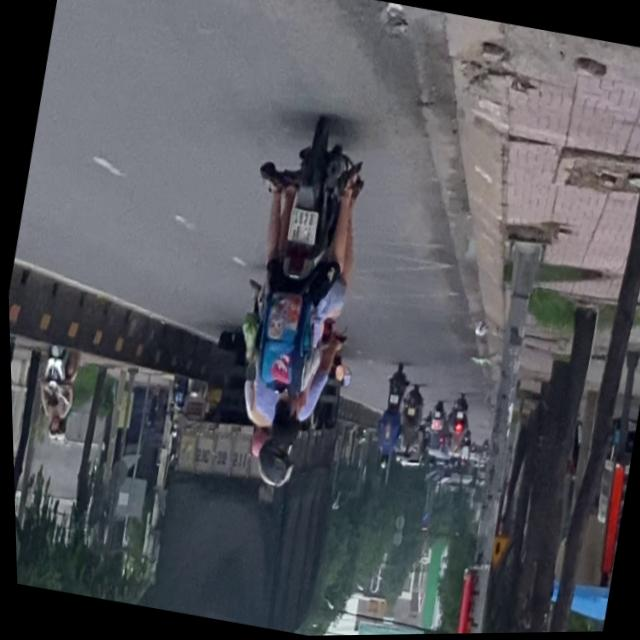helmet: (247, 433, 294, 491)
licenseplate: (197, 107, 387, 501)
motorcyclist: (260, 393, 301, 453)
nohelmet: (283, 208, 317, 247)
